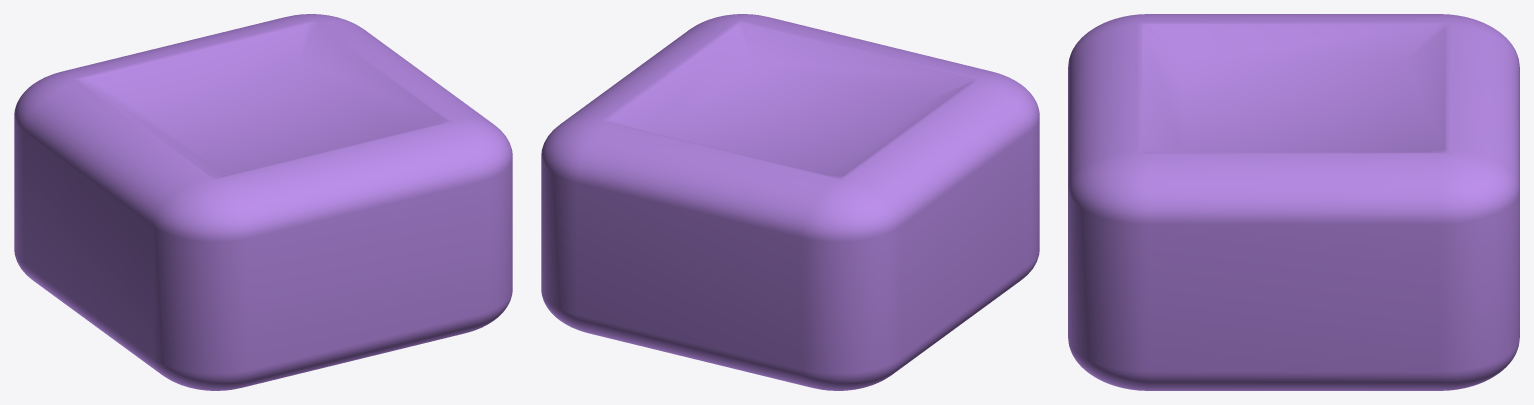
Rendered from textcube2.fbx.
The picture shows the model from 3 angles, left to right: view 1: azimuth 30°, elevation 25°; view 2: azimuth 150°, elevation 25°; view 3: azimuth 270°, elevation 25°; orthographic projection. The views are drawn at different scales.
Parts seen in each view (by area): view 1: Cube; view 2: Cube; view 3: Cube.
Boxes of the visible parts, <box> form: Cube: <box>14,14,512,390</box>; Cube: <box>541,14,1039,390</box>; Cube: <box>1068,14,1519,390</box>.
Bounding box in the file's own units: 200 × 112 × 200.
